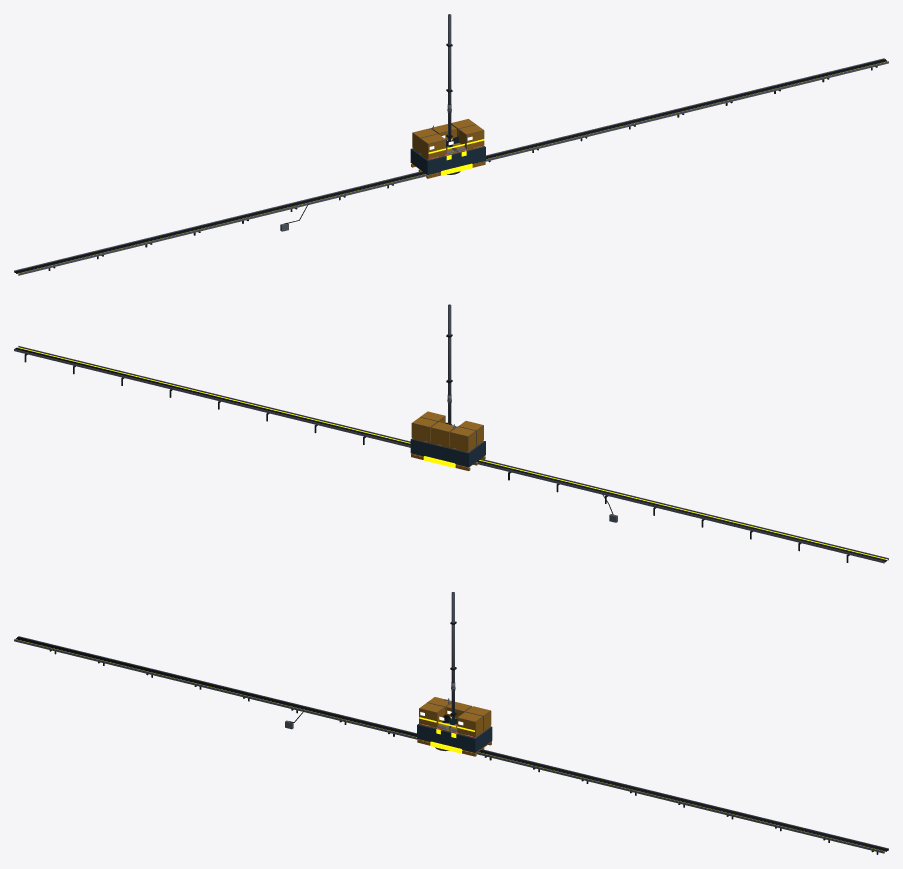
Rendered from room-detail-w3-props.glb.
3 renders of one model, top to bottom at view 1: azimuth 30°, elevation 25°; view 2: azimuth 150°, elevation 25°; view 3: azimuth 330°, elevation 25°, orthographic.
Parts seen in each view (by area): view 1: rd-w3h-trays, rd-w3h-pallet-crates, rd-w3h-leak; view 2: rd-w3h-trays, rd-w3h-pallet-crates; view 3: rd-w3h-trays, rd-w3h-pallet-crates, rd-w3h-leak.
Boxes of the visible parts, x1,y1,x2,y2 form: rd-w3h-trays: (14,58,888,275); rd-w3h-pallet-crates: (410,119,485,178); rd-w3h-leak: (446,14,460,174); rd-w3h-trays: (14,346,888,563); rd-w3h-pallet-crates: (410,411,485,470); rd-w3h-trays: (14,636,888,854); rd-w3h-pallet-crates: (417,697,492,756); rd-w3h-leak: (435,592,456,751).
Bounding box in the file's own units: 36 × 6.95 × 1.42.
Materials: 1 (1 with a texture image).
